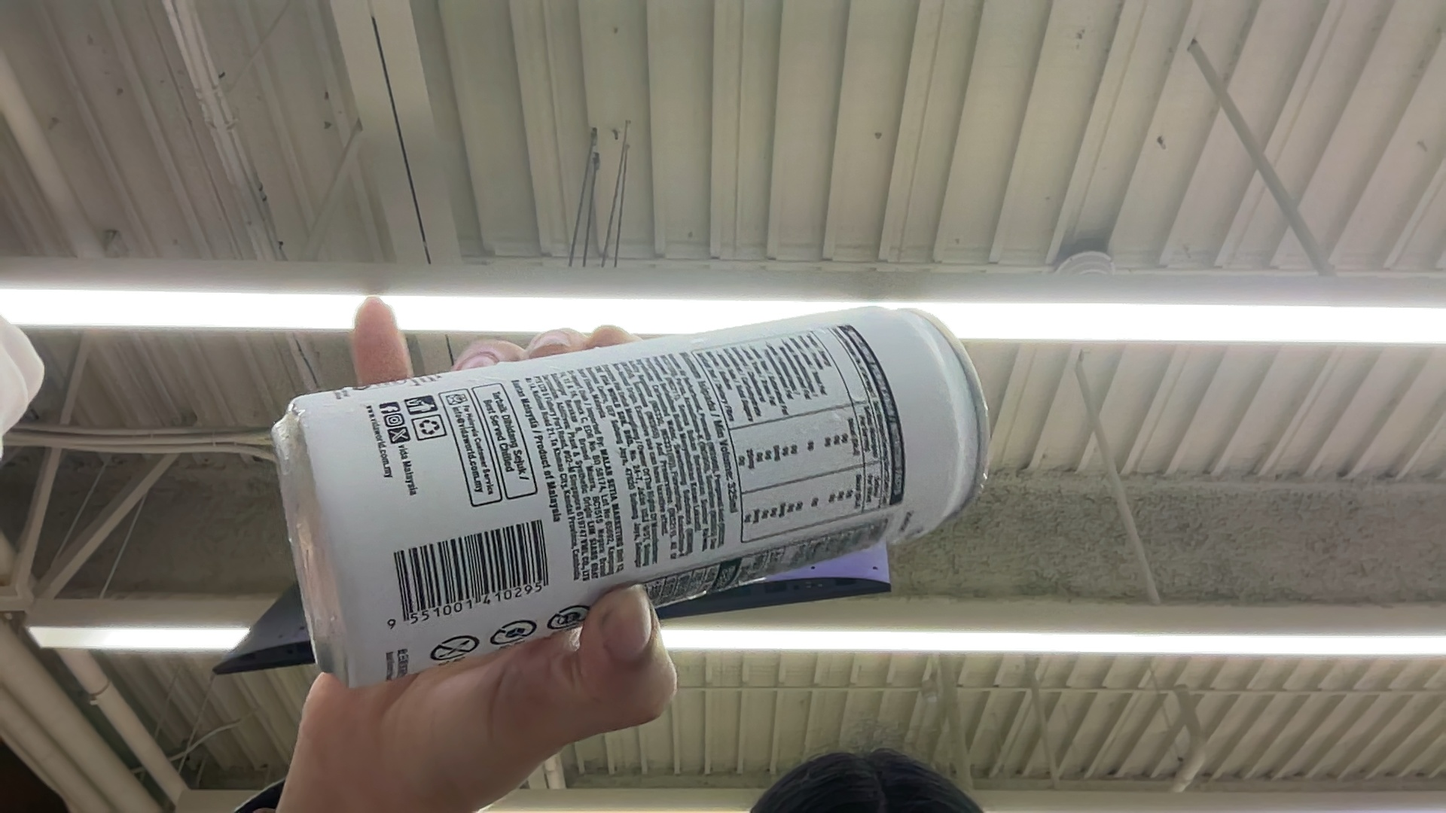Metal: (15, 434, 288, 636)
